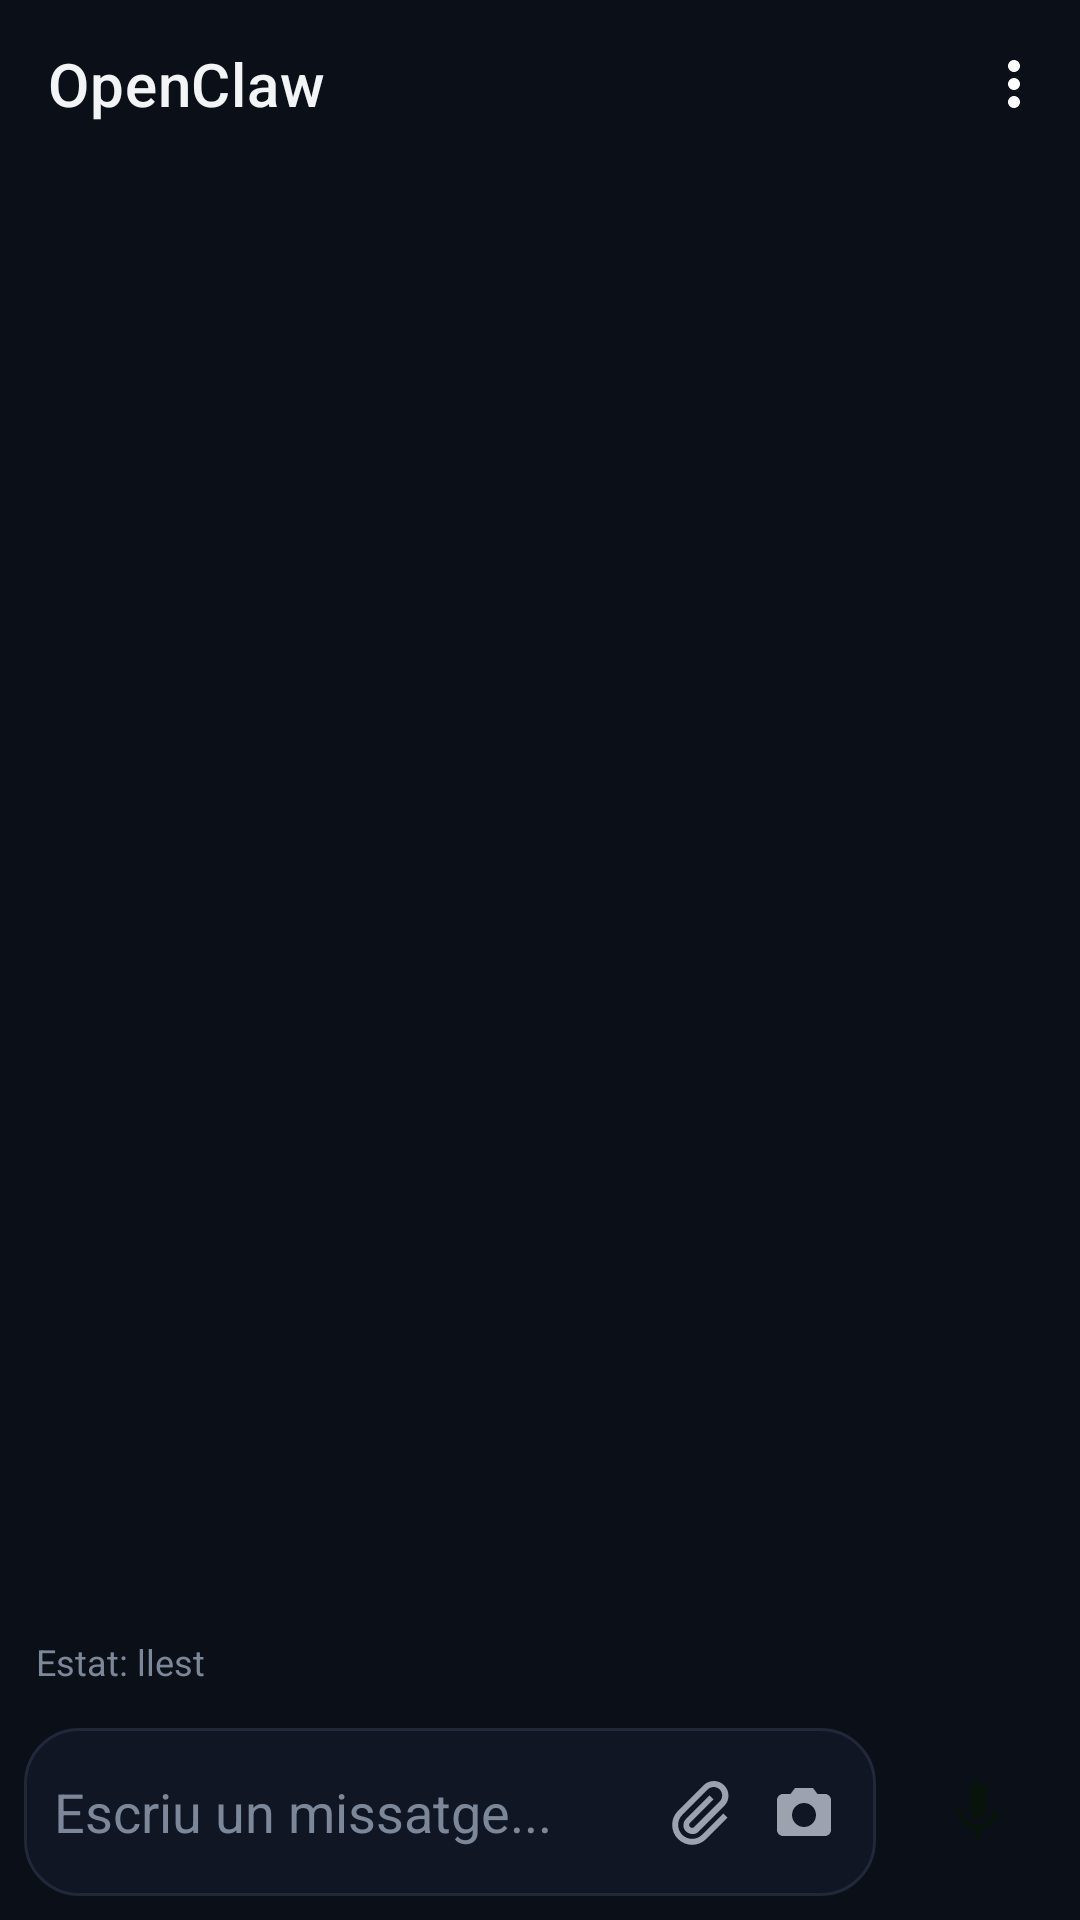

Icon bounding boxes for this 1080x1920 phone screenshot, format (x1=x1, y1=y1, x2=x2, y2=y2):
Adjuntar: (x1=672, y1=1781, x2=729, y2=1845)
Càmera: (x1=777, y1=1788, x2=831, y2=1836)
